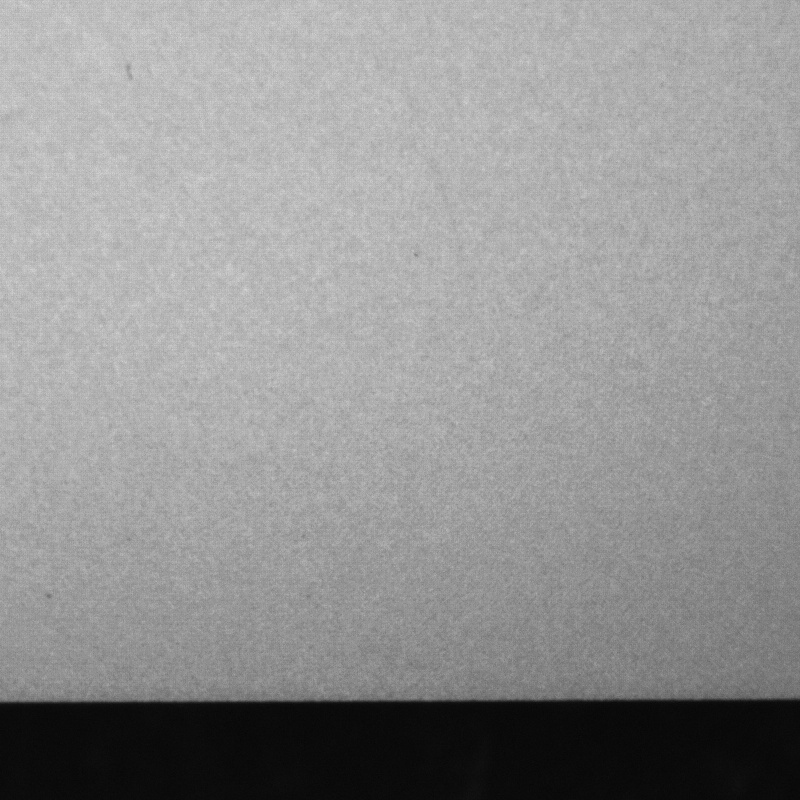defect: (402, 142, 483, 271), (40, 582, 69, 616), (115, 59, 145, 84)
